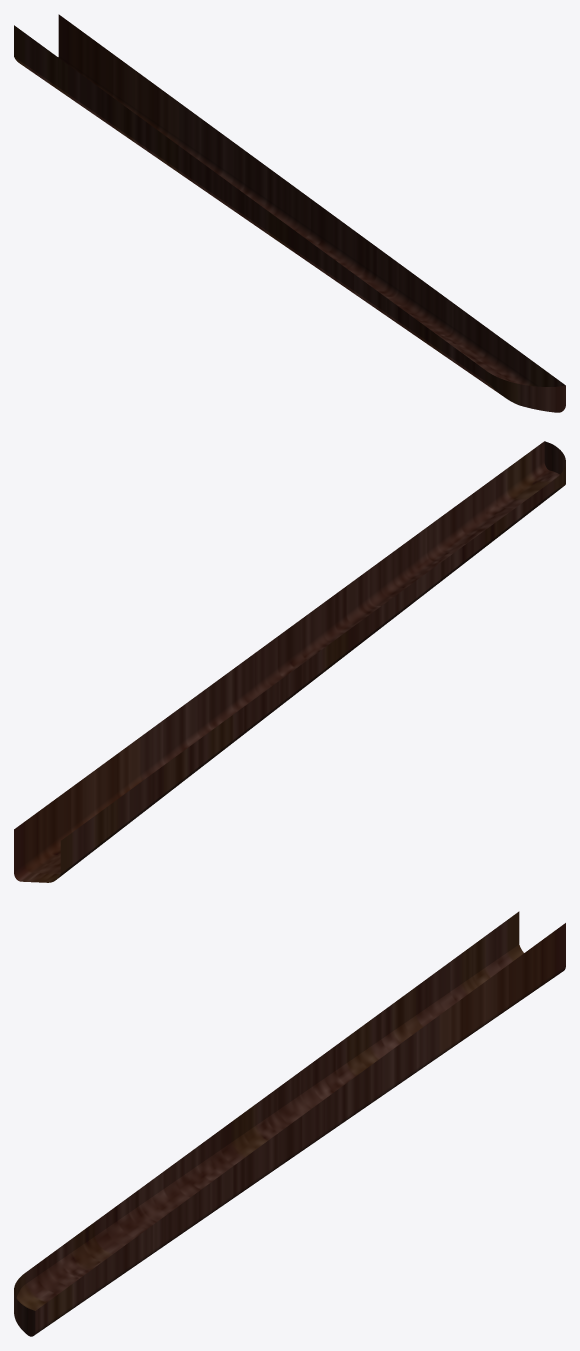
The model's file is original-58.obj.
The picture shows the model from 3 angles, top to bottom: view 1: azimuth 30°, elevation 25°; view 2: azimuth 150°, elevation 25°; view 3: azimuth 330°, elevation 25°; orthographic projection. The views are drawn at different scales.
Parts seen in each view (by area): view 1: #ID378; view 2: #ID378; view 3: #ID378.
Boxes of the visible parts, left/top/right/bottom form: #ID378: left=14, top=14, right=565, bottom=412; #ID378: left=14, top=441, right=565, bottom=882; #ID378: left=14, top=911, right=565, bottom=1336.
Bounding box in the file's own units: 0.0335 × 0.0347 × 0.6594.
